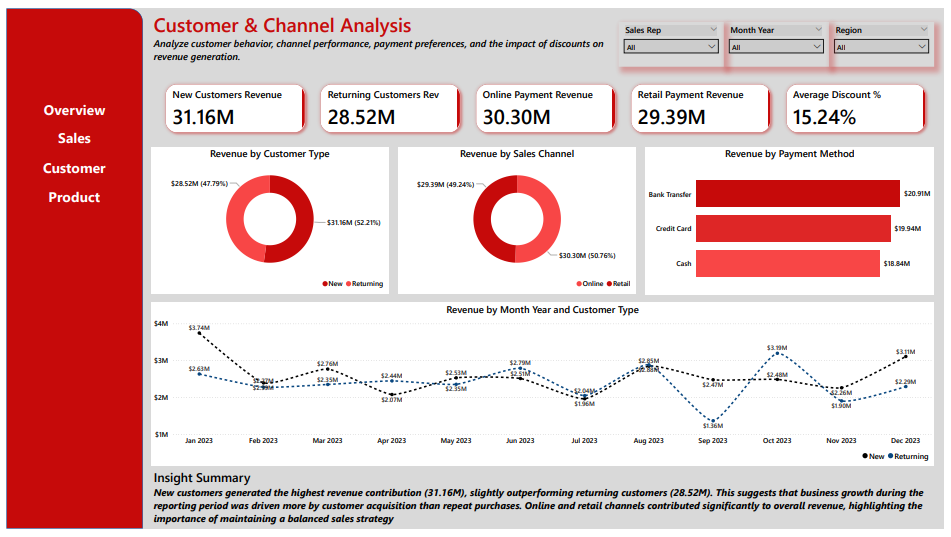

This screenshot's page, from the dashboard's own definition file:
{"tool":"powerbi","page":{"name":"Customer & Channel","canvas":[1800,1000],"ordinal":2},"visuals":[{"type":"cardVisual","fields":{"Data":["Measure Table.New Customers Revenue","Measure Table.Returning Customers Revenue","Measure Table.Online Revenue","Measure Table.Retail Revenue","Measure Table.Average Discount %"]},"box":[278.4,117.6,1519.2,148.8],"z":0},{"type":"textbox","box":[278,0,912,118],"z":1000},{"type":"slicer","fields":{"Values":["sales_data.Sales_Rep"]},"box":[1176,26,202,86],"z":2000},{"type":"slicer","fields":{"Values":["sales_data.Region"]},"box":[1580,26,202,86],"z":3000},{"type":"slicer","fields":{"Values":["sales_data.Month Year"]},"box":[1378,26,202,86],"z":4000},{"type":"donutChart","title":"Revenue by Customer Type","fields":{"Y":["Measure Table.Revenue"],"Category":["sales_data.Customer_Type"]},"box":[278,266,456,282],"z":5000},{"type":"donutChart","title":"Revenue by Sales Channel","fields":{"Y":["Measure Table.Revenue"],"Category":["sales_data.Sales_Channel"]},"box":[753,266,456,282],"z":6000},{"type":"barChart","title":"Revenue by Payment Method","fields":{"Y":["Measure Table.Revenue"],"Category":["sales_data.Payment_Method"]},"box":[1228,266,554,284],"z":7000},{"type":"lineChart","title":"Revenue by Month Year and Customer Type","fields":{"Y":["Measure Table.Revenue"],"Category":["sales_data.Month Year"],"Series":["sales_data.Customer_Type"]},"box":[278,566,1504,314],"z":8000},{"type":"textbox","box":[278,880,1504,120],"z":9000},{"type":"shape","box":[0,0,262,1000],"z":9001},{"type":"actionButton","box":[0,171,262,41],"z":9002},{"type":"actionButton","box":[0,226,262,40],"z":9003},{"type":"actionButton","box":[0,283.6,261.5,40.2],"z":9004},{"type":"actionButton","box":[0,339.9,261.5,40.2],"z":9005}]}

Visuals, with their boxes in screenshot pixels (x1, y1, x2, y2), scaled from the page's 1800x1000 canvas onto the 951x537 screenshot:
cardVisual - Measure Table.New Customers Revenue x Measure Table.Returning Customers Revenue: bbox(147, 63, 950, 143)
textbox: bbox(147, 0, 629, 63)
slicer - sales_data.Sales_Rep: bbox(621, 14, 728, 60)
slicer - sales_data.Region: bbox(835, 14, 941, 60)
slicer - sales_data.Month Year: bbox(728, 14, 835, 60)
"Revenue by Customer Type" donutChart: bbox(147, 143, 388, 294)
"Revenue by Sales Channel" donutChart: bbox(398, 143, 639, 294)
"Revenue by Payment Method" barChart: bbox(649, 143, 941, 295)
"Revenue by Month Year and Customer Type" lineChart: bbox(147, 304, 941, 473)
textbox: bbox(147, 473, 941, 536)
shape: bbox(0, 0, 138, 536)
actionButton: bbox(0, 92, 138, 114)
actionButton: bbox(0, 121, 138, 143)
actionButton: bbox(0, 152, 138, 174)
actionButton: bbox(0, 183, 138, 204)
